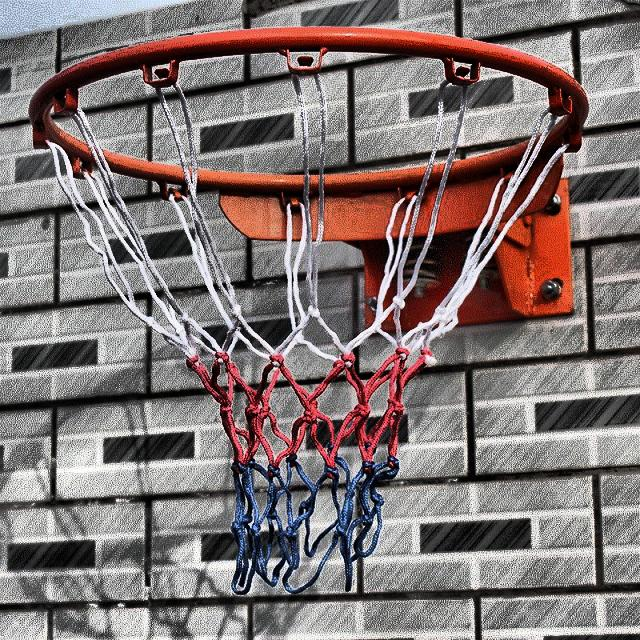rim: (29, 26, 592, 594)
